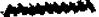Water: (3, 0, 95, 17)
